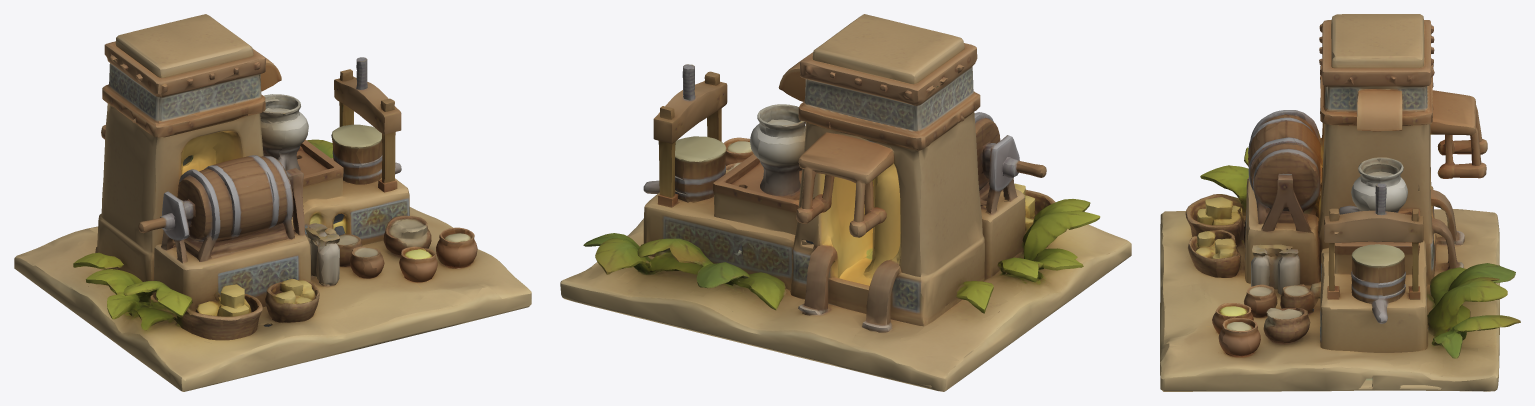
File: DairyMachine.fbx
3 renders of one model, left to right at view 1: azimuth 30°, elevation 25°; view 2: azimuth 150°, elevation 25°; view 3: azimuth 270°, elevation 25°, orthographic. The views are drawn at different scales.
Visible parts, largest first — view 1: node_98a0e473_d609_4bf2_bf30_3ba9bfc4976a_mesh0; view 2: node_98a0e473_d609_4bf2_bf30_3ba9bfc4976a_mesh0; view 3: node_98a0e473_d609_4bf2_bf30_3ba9bfc4976a_mesh0.
Part boxes in pixels (x1,y1,x2,y2): node_98a0e473_d609_4bf2_bf30_3ba9bfc4976a_mesh0: (14,14,531,391); node_98a0e473_d609_4bf2_bf30_3ba9bfc4976a_mesh0: (560,14,1131,391); node_98a0e473_d609_4bf2_bf30_3ba9bfc4976a_mesh0: (1160,14,1520,391).
Bounding box in the file's own units: 100 × 64.59 × 86.67.
1 material, 1 textured.
